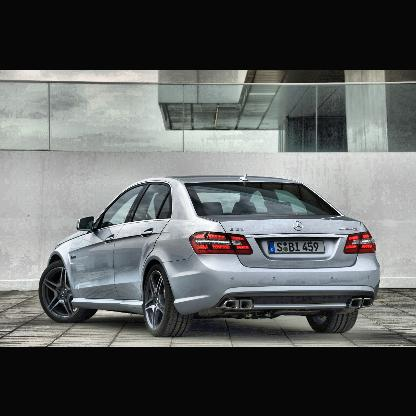Mercedes-Benz E-Class Sedan 2012: (40, 174, 383, 338)
